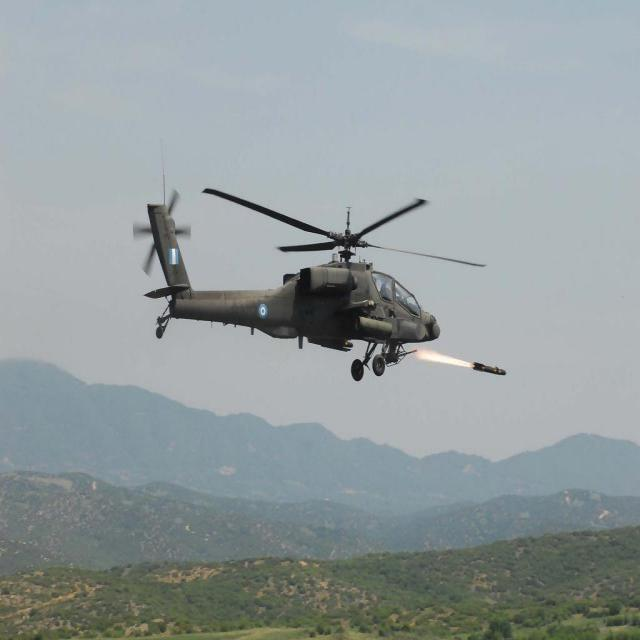MIL_HELO: (135, 155, 467, 417)
